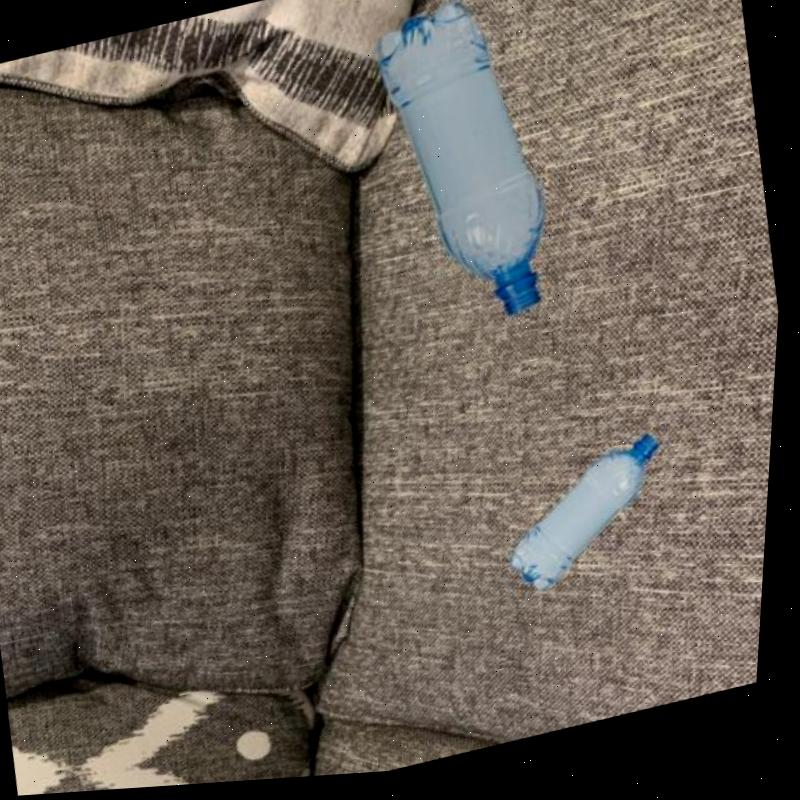botella: (356, 0, 569, 351), (498, 440, 686, 606)
